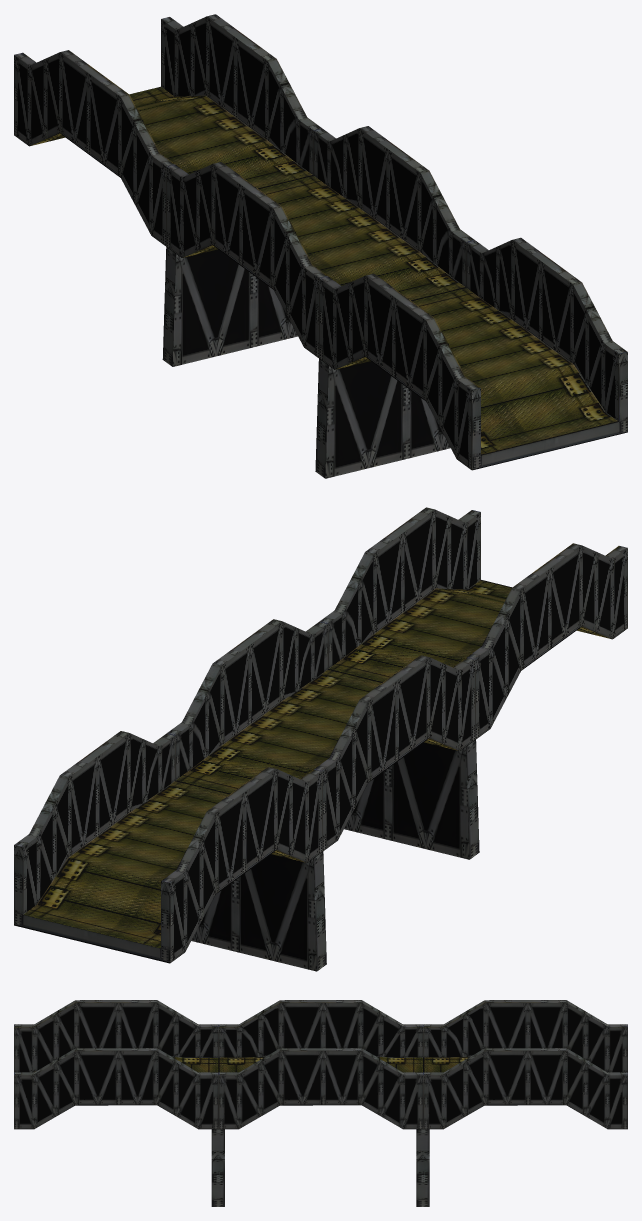
Rendered from bridge.gltf.
3 views of the same model, one above another, from view 1: azimuth 30°, elevation 25°; view 2: azimuth 150°, elevation 25°; view 3: azimuth 270°, elevation 25° (orthographic). The views are drawn at different scales.
Visible parts, largest first — view 1: bridge_atomic0; view 2: bridge_atomic0; view 3: bridge_atomic0.
Boxes of the visible parts, x1=… form: bridge_atomic0: x1=14, y1=14, x2=627, y2=478; bridge_atomic0: x1=14, y1=507, x2=627, y2=971; bridge_atomic0: x1=14, y1=1000, x2=627, y2=1206.
Bounding box in the file's own units: 32.61 × 46.56 × 166.
Materials: 1 (1 with a texture image).
